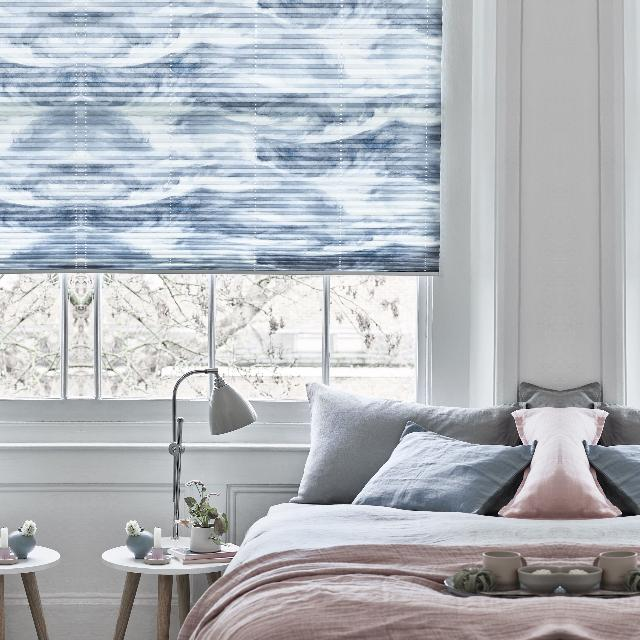pillow: (293, 379, 521, 502), (352, 422, 541, 516), (560, 409, 620, 520), (500, 409, 559, 520), (578, 439, 640, 512)
